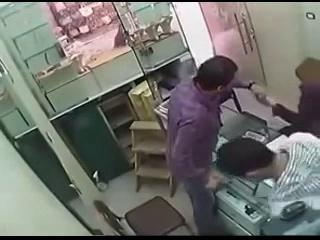Normal: (165, 56, 262, 234), (218, 132, 320, 208)
